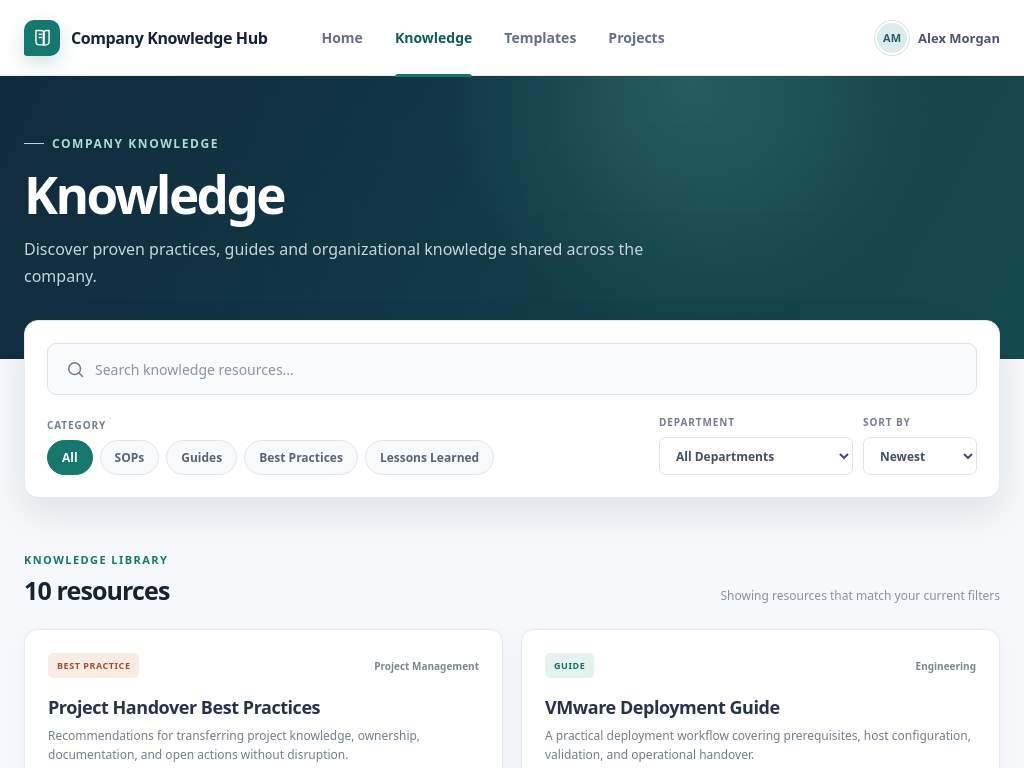
Test: KnowledgePage › combines category and department filters
The width and height of the screenshot is (1024, 768).
Click the button "SOPs" at {"x": 129, "y": 458}, box [100,440,159,475]
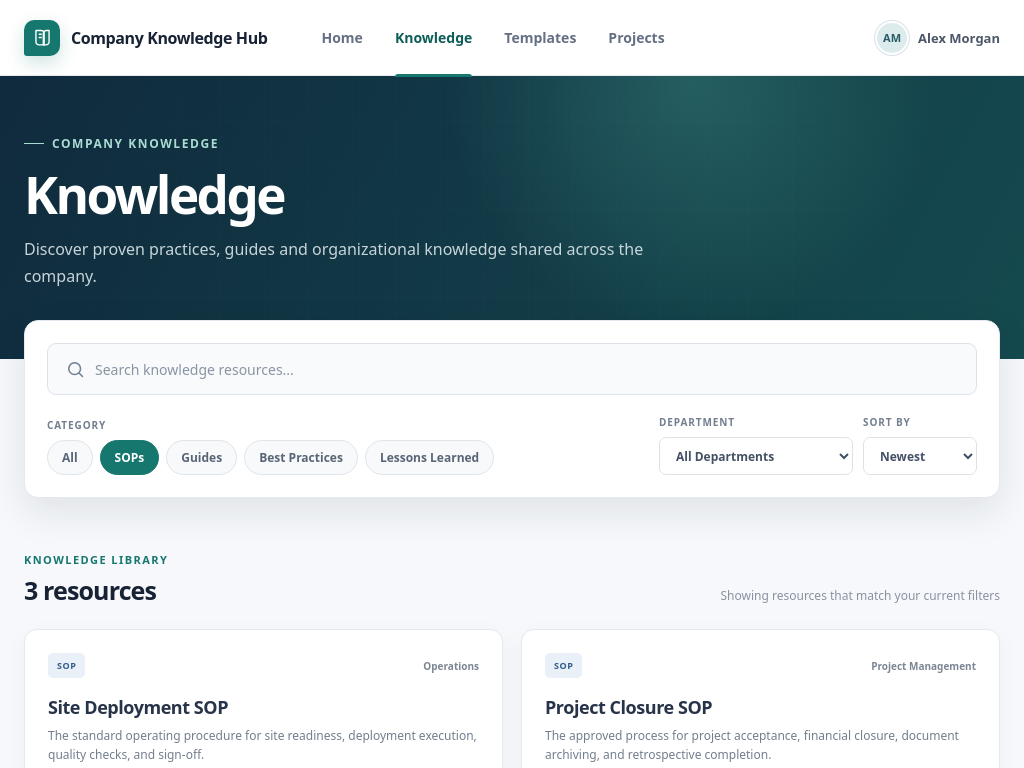
Select "Operations" in the dropdown labelled "Department" at {"x": 756, "y": 456}, box [659,437,853,475]
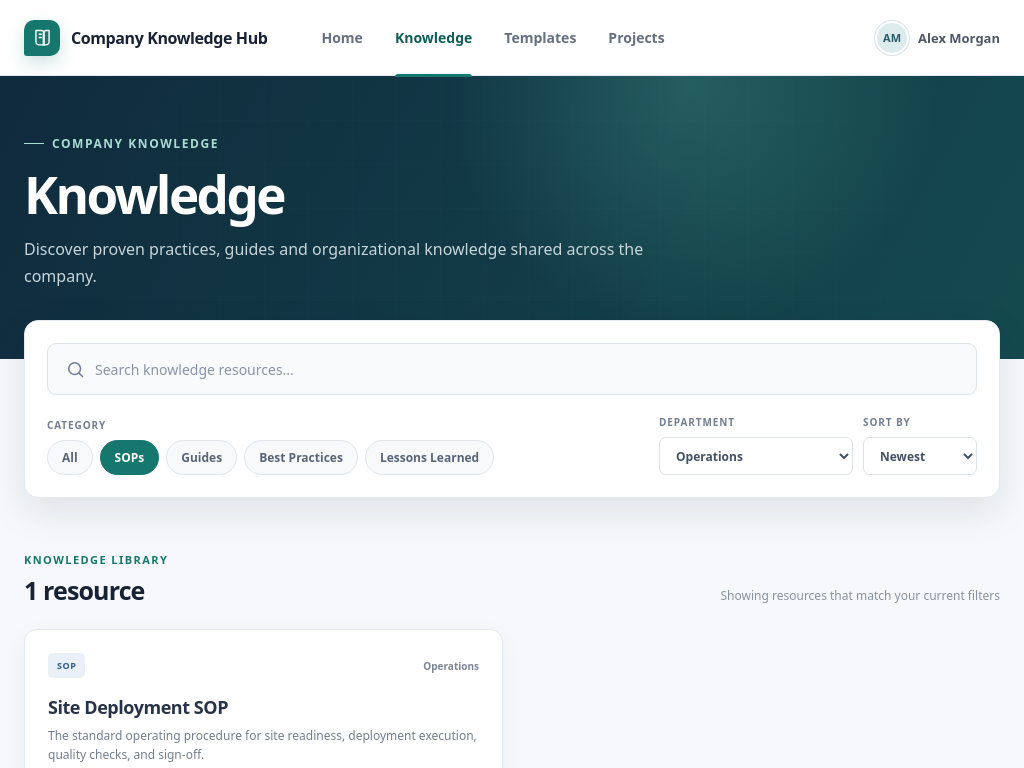
expect the heading "Site Deployment SOP" is shown: met, box [48,695,228,719]
expect the heading "1 resource" is shown: met, box [24,573,144,607]
expect the heading "Project Closure SOP" is gone: met
